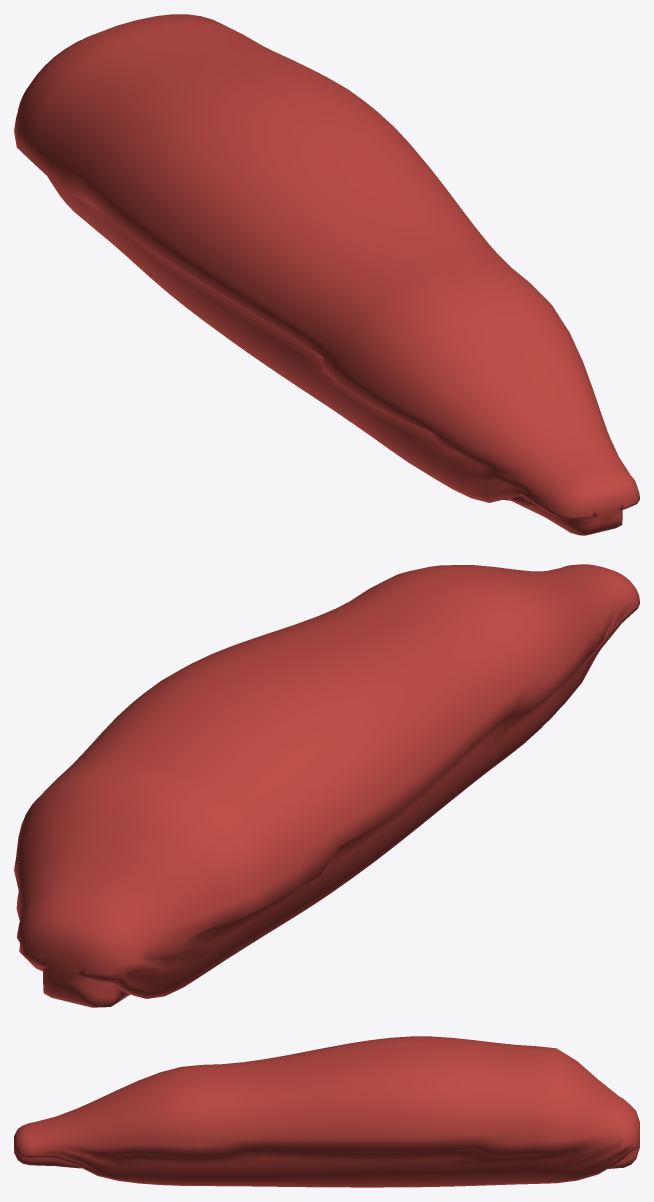
File: teardrop.glb
3 views of the same model, one above another, from view 1: azimuth 30°, elevation 25°; view 2: azimuth 150°, elevation 25°; view 3: azimuth 270°, elevation 25° (orthographic). The views are drawn at different scales.
Parts seen in each view (by area): view 1: lod0; view 2: lod0; view 3: lod0.
Boxes of the visible parts, x1,y1,x2,y2 form: lod0: (14, 14, 639, 535); lod0: (14, 564, 639, 1007); lod0: (14, 1036, 639, 1187).
Size of what is drawn, in the model's own units: 0.2885 by 0.2205 by 1.
